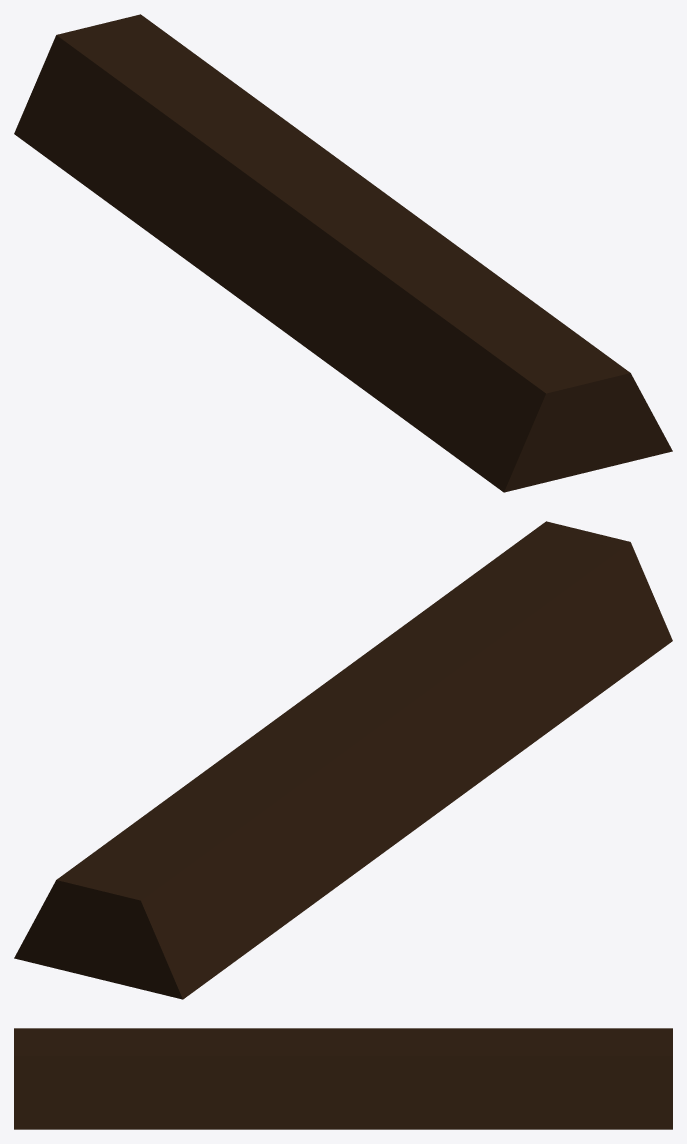
The model's file is RoofTopPart_DP_1110.fbx.
The picture shows the model from 3 angles, top to bottom: view 1: azimuth 30°, elevation 25°; view 2: azimuth 150°, elevation 25°; view 3: azimuth 270°, elevation 25°; orthographic projection. The views are drawn at different scales.
Visible parts, largest first — view 1: Cube; view 2: Cube; view 3: Cube.
Part boxes in pixels (left/top/right/bottom): Cube: left=14, top=14, right=672, bottom=492; Cube: left=14, top=521, right=672, bottom=999; Cube: left=14, top=1028, right=672, bottom=1129.
Bounding box in the file's own units: 39.87 × 20 × 200.
